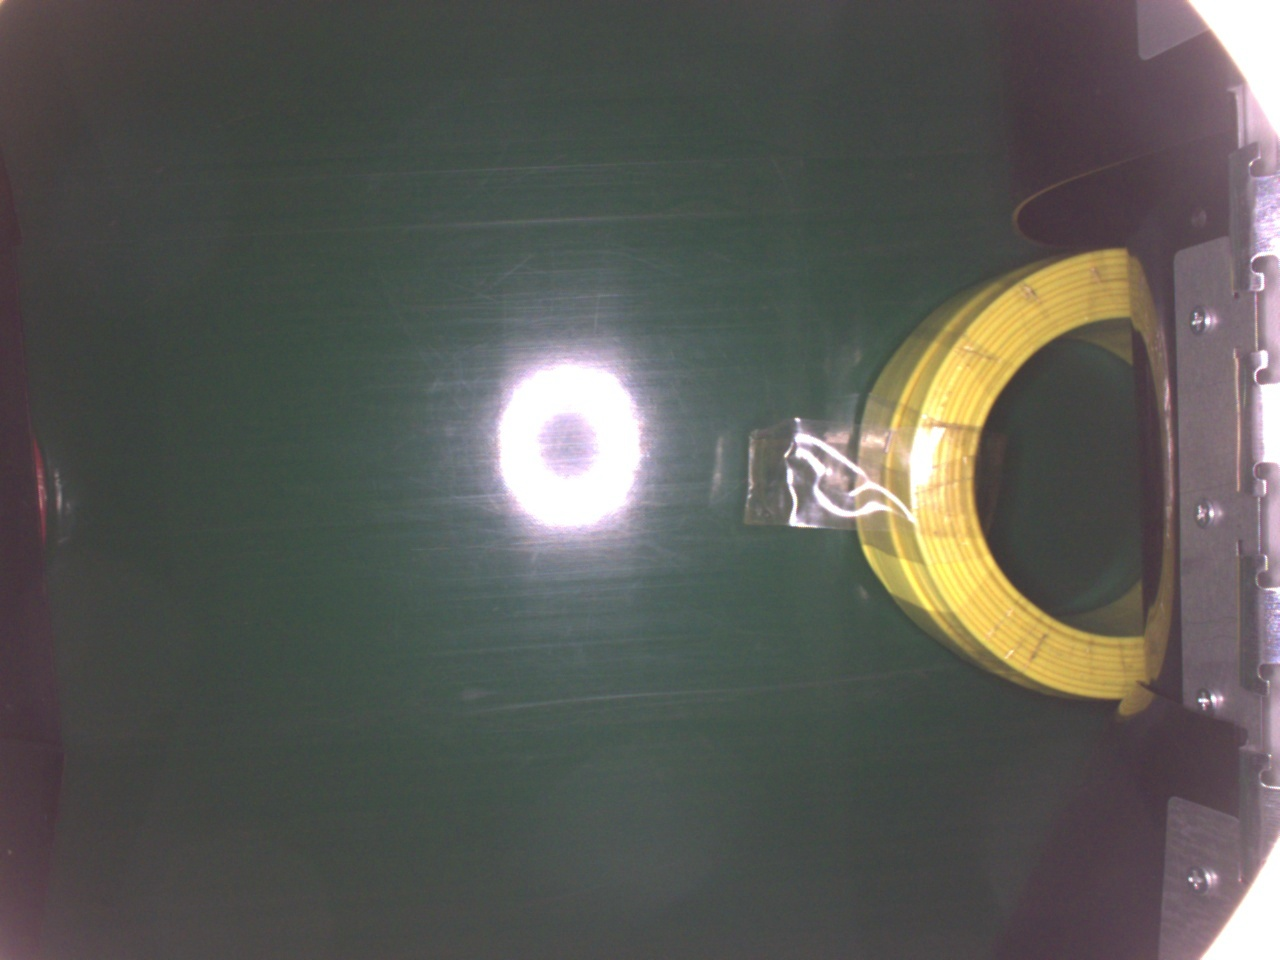yellow: (846, 243, 1156, 708)
